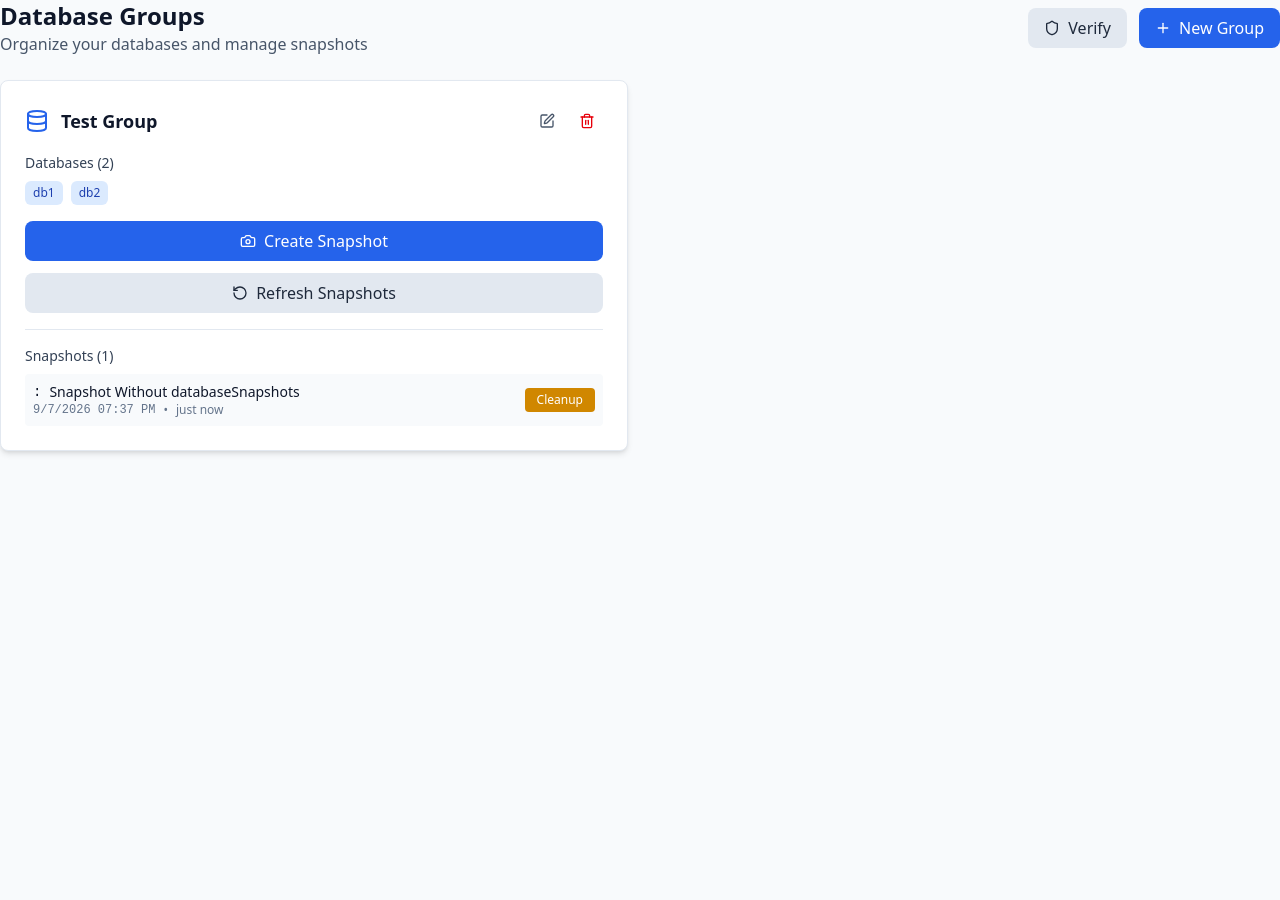
Test: GroupsManager - Profile Change Validation › should not crash when snapshot has no databaseSnapshots (regression)
Expected: the heading "Test Group" is shown, [61,107,158,135]
Click the button named "Edit group Test Group": (547, 121) [531,105,563,137]
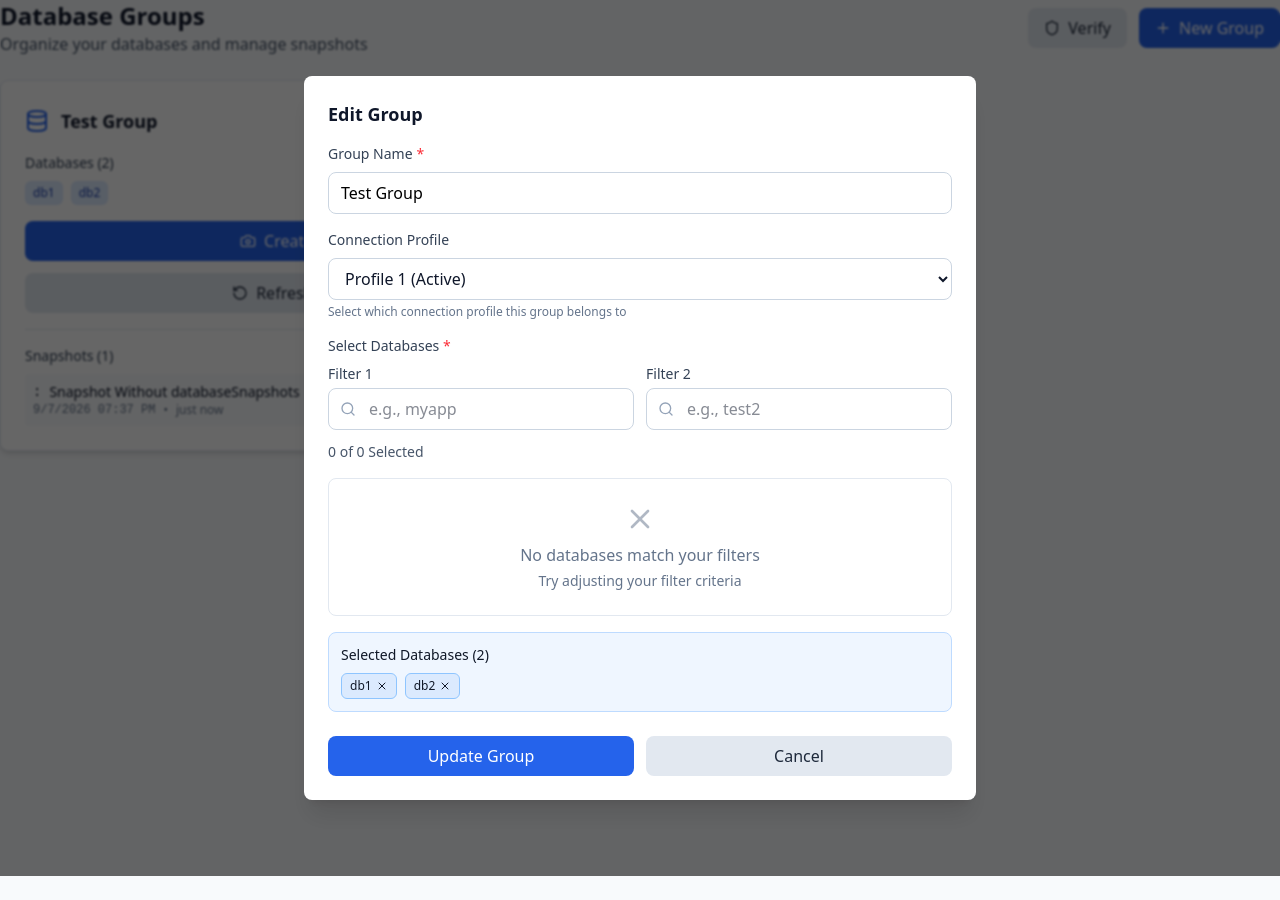
Expected: the text "Snapshot Without databaseSnapshots" is shown, [49,382,300,402]
Now the heading "Edit Group" is shown, box [328,102,423,126]
